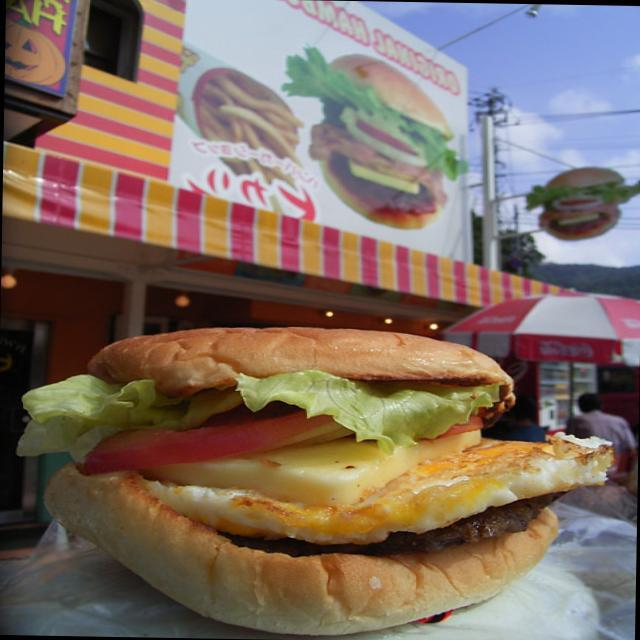Hamburger: (0, 300, 625, 640)
